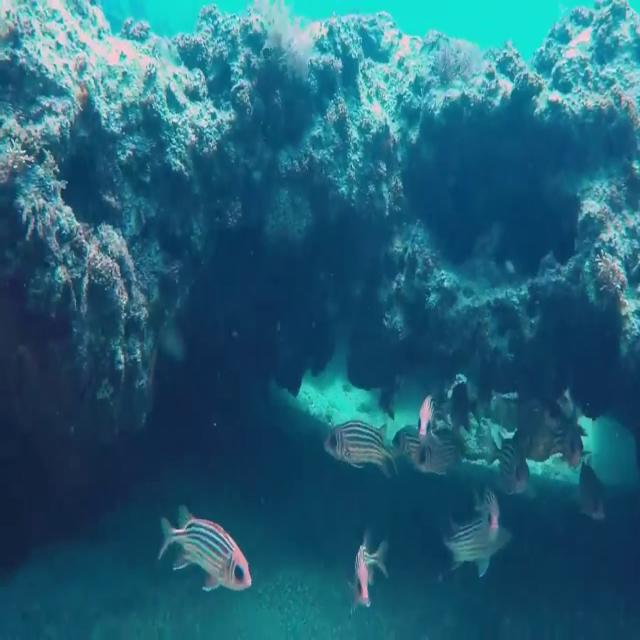Asker Baligi: (156, 503, 252, 594), (312, 410, 397, 476), (404, 423, 456, 477), (488, 441, 534, 499)
